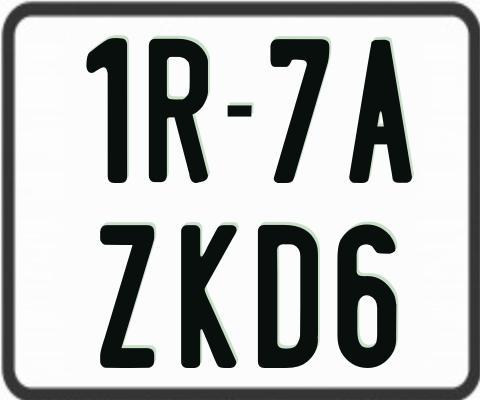1: (84, 36, 128, 184)
6: (337, 223, 397, 368)
7: (268, 37, 330, 182)
A: (346, 38, 409, 184)
D: (256, 222, 321, 370)
K: (179, 225, 236, 372)
R: (147, 37, 207, 187)
Z: (98, 225, 152, 372)
